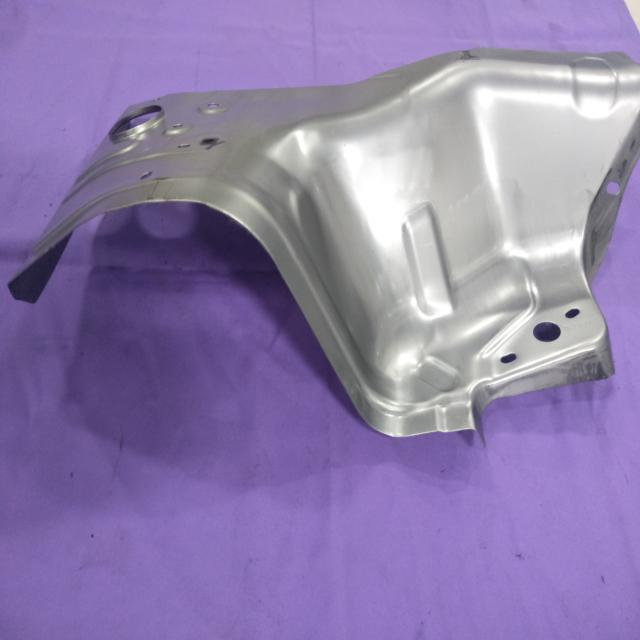Healthy: (7, 44, 638, 446)
